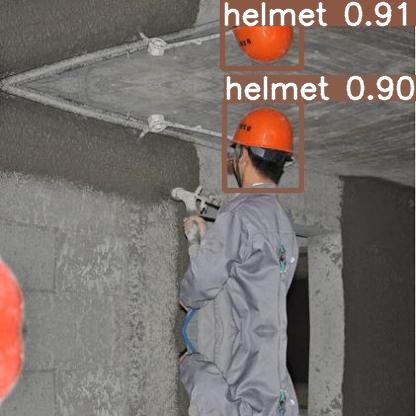helmet: (224, 100, 301, 190), (222, 0, 301, 68)
